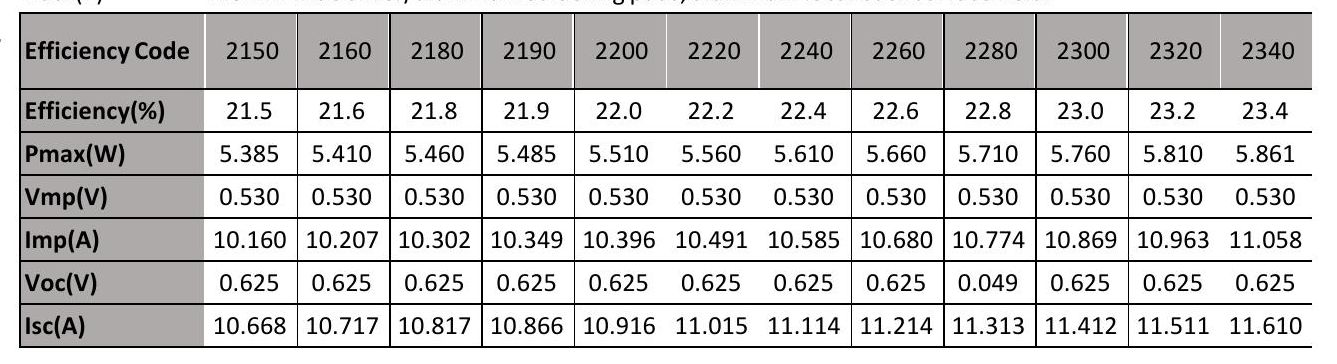table: (9, 7, 1332, 357)
table column: (20, 12, 200, 346), (852, 10, 943, 351), (485, 10, 572, 354), (302, 10, 388, 351), (1226, 10, 1313, 345), (1039, 10, 1125, 348), (762, 9, 847, 350), (672, 9, 755, 350), (1132, 11, 1216, 347), (209, 10, 292, 349), (395, 11, 477, 352), (580, 9, 662, 349), (949, 8, 1030, 351)
table row: (22, 16, 1310, 82), (20, 222, 1314, 260), (22, 91, 1311, 128), (21, 136, 1312, 171), (22, 307, 1319, 341), (22, 179, 1314, 213), (25, 266, 1317, 298)
